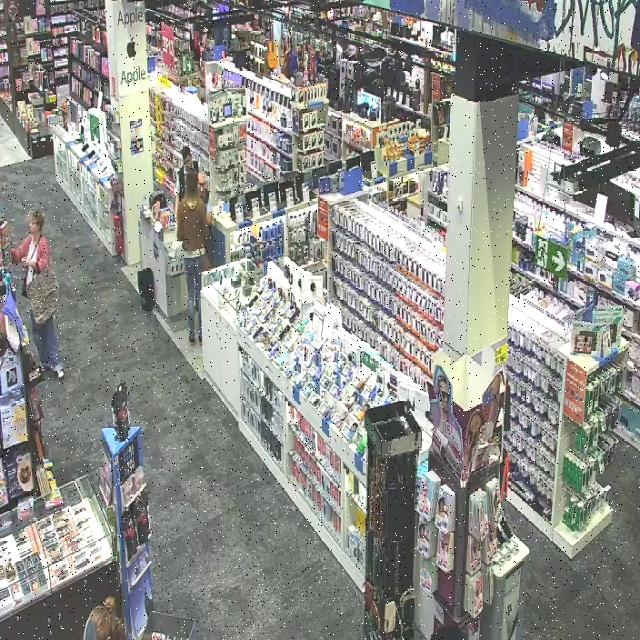bags: (27, 266, 59, 324), (200, 254, 212, 271), (22, 267, 29, 296)
hands: (22, 257, 36, 267)
person: (177, 171, 209, 344), (11, 211, 49, 287), (176, 146, 198, 213)
